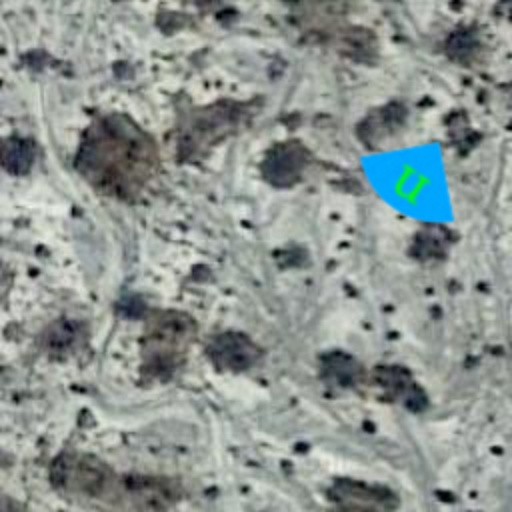quarter_circle: (336, 106, 488, 258)
